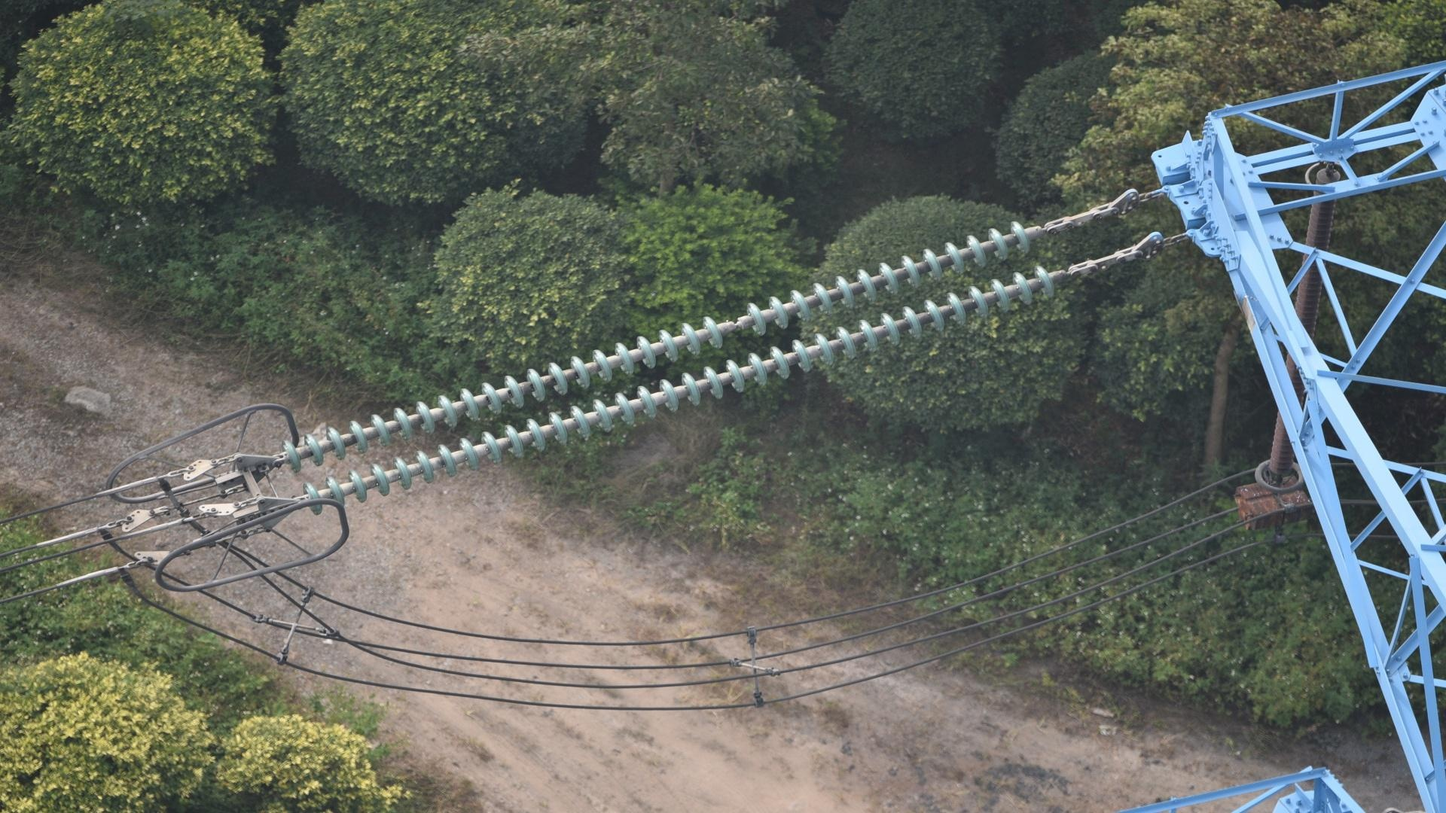insulator: (274, 215, 1059, 522), (1261, 166, 1344, 480)
